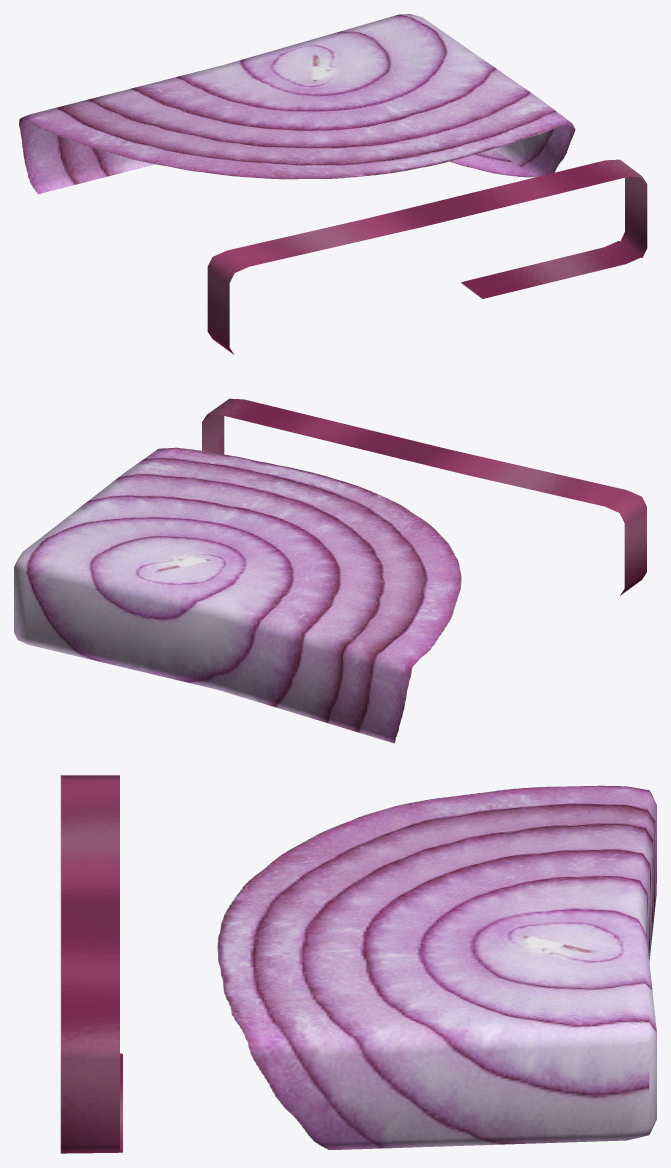
The model's file is fish.FBX.
The picture shows the model from 3 angles, top to bottom: view 1: azimuth 30°, elevation 25°; view 2: azimuth 150°, elevation 25°; view 3: azimuth 270°, elevation 25°; orthographic projection. The views are drawn at different scales.
Visible parts, largest first — view 1: fish__LOD00; view 2: fish__LOD00; view 3: fish__LOD00.
Part boxes in pixels (<box>): fish__LOD00: <box>19,14,647,354</box>; fish__LOD00: <box>14,398,646,743</box>; fish__LOD00: <box>60,775,656,1153</box>.
Size of what is drawn, in the model's own units: 4.87 by 1.09 by 4.87.
